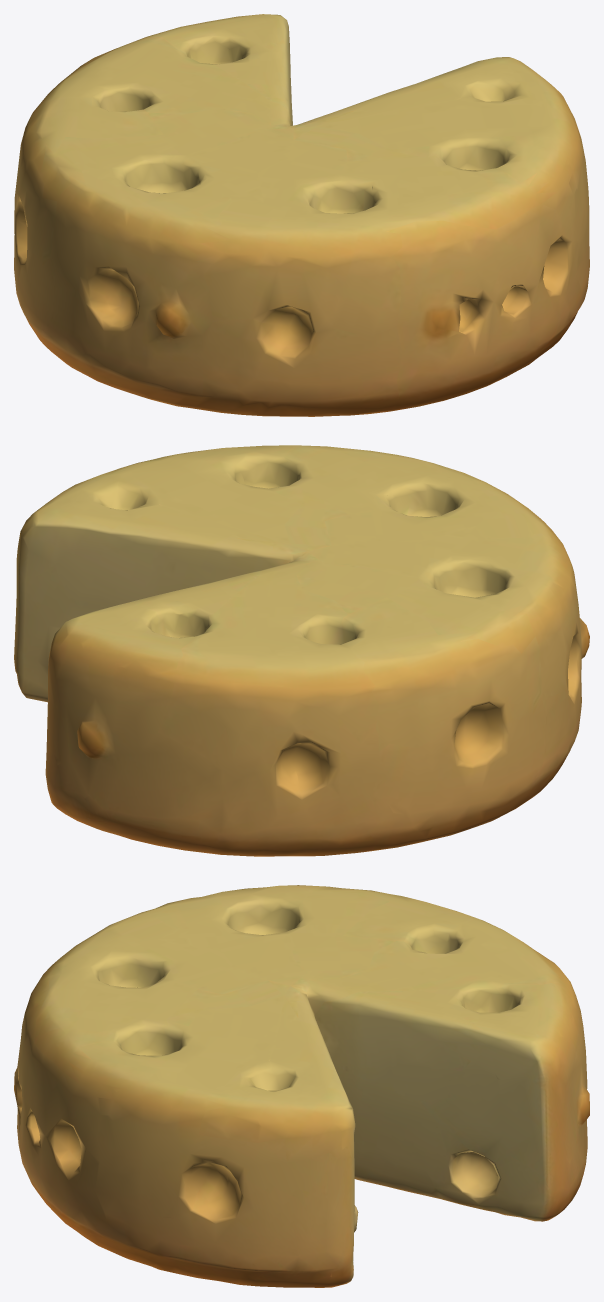
File: cheese.glb
3 views of the same model, one above another, from view 1: azimuth 30°, elevation 25°; view 2: azimuth 150°, elevation 25°; view 3: azimuth 270°, elevation 25° (orthographic). The views are drawn at different scales.
Parts seen in each view (by area): view 1: tripo_node_3dc2a928-4e6b-4f70-9c8f-3af750155970; view 2: tripo_node_3dc2a928-4e6b-4f70-9c8f-3af750155970; view 3: tripo_node_3dc2a928-4e6b-4f70-9c8f-3af750155970.
Part boxes in pixels (box(x1,y1,x2,y2)): tripo_node_3dc2a928-4e6b-4f70-9c8f-3af750155970: box(14, 14, 589, 416); tripo_node_3dc2a928-4e6b-4f70-9c8f-3af750155970: box(14, 445, 589, 856); tripo_node_3dc2a928-4e6b-4f70-9c8f-3af750155970: box(14, 885, 589, 1287).
Size of the model in its own units: 0.9956 by 0.3568 by 1.
1 material, 1 textured.
